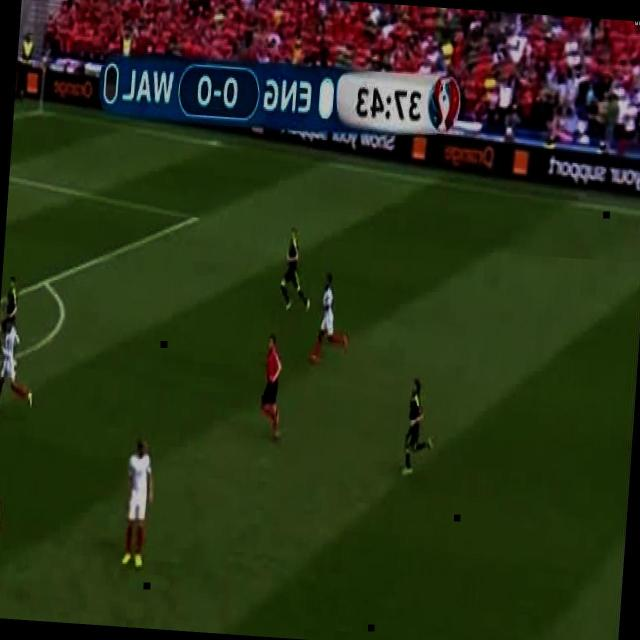player-white: (120, 438, 158, 572), (308, 271, 354, 371), (398, 378, 438, 478), (0, 317, 40, 417), (278, 226, 316, 312), (258, 330, 286, 445), (0, 276, 22, 363), (0, 464, 6, 604)
